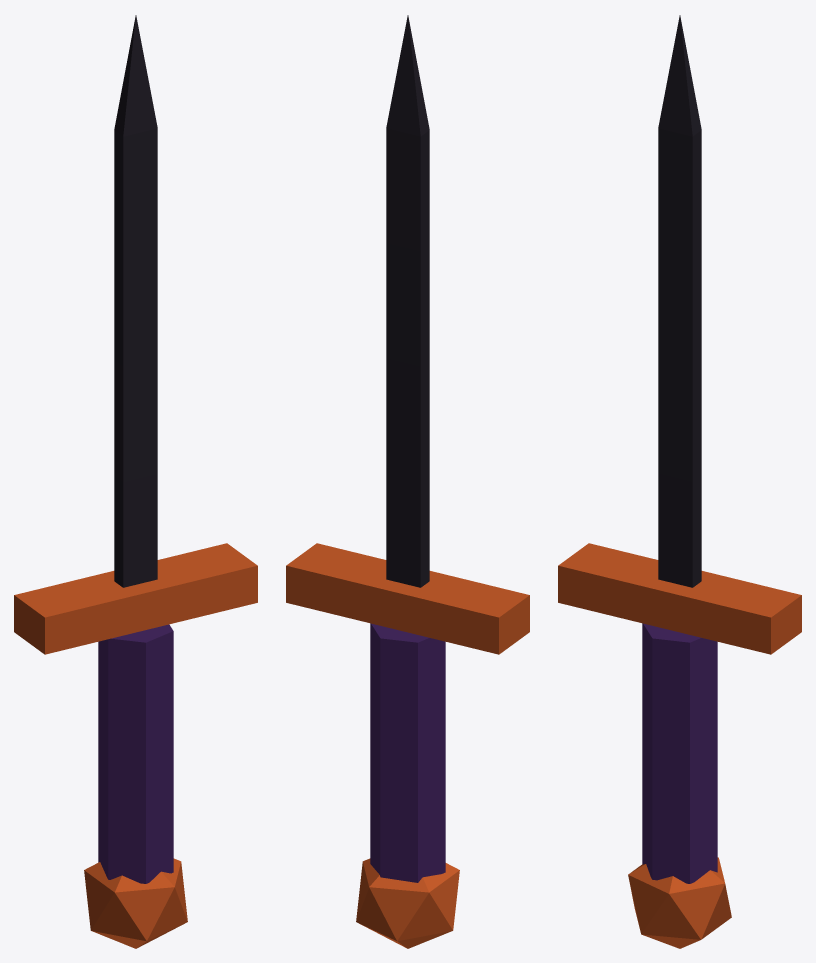
Rendered from weapon_twin_khopesh.glb.
3 renders of one model, left to right at view 1: azimuth 30°, elevation 25°; view 2: azimuth 150°, elevation 25°; view 3: azimuth 330°, elevation 25°, orthographic.
Parts seen in each view (by area): view 1: demon_weapon_twin_khopesh; view 2: demon_weapon_twin_khopesh; view 3: demon_weapon_twin_khopesh.
Part boxes in pixels (bbox=[...]): demon_weapon_twin_khopesh: bbox=[14, 15, 257, 948]; demon_weapon_twin_khopesh: bbox=[286, 15, 529, 948]; demon_weapon_twin_khopesh: bbox=[558, 15, 801, 948].
Size of the model in its own units: 0.144 by 0.6042 by 0.0582.
